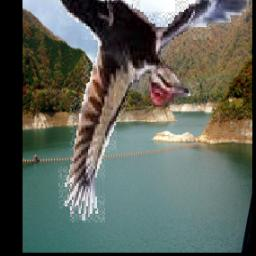Woodpecker: (55, 0, 250, 228)
